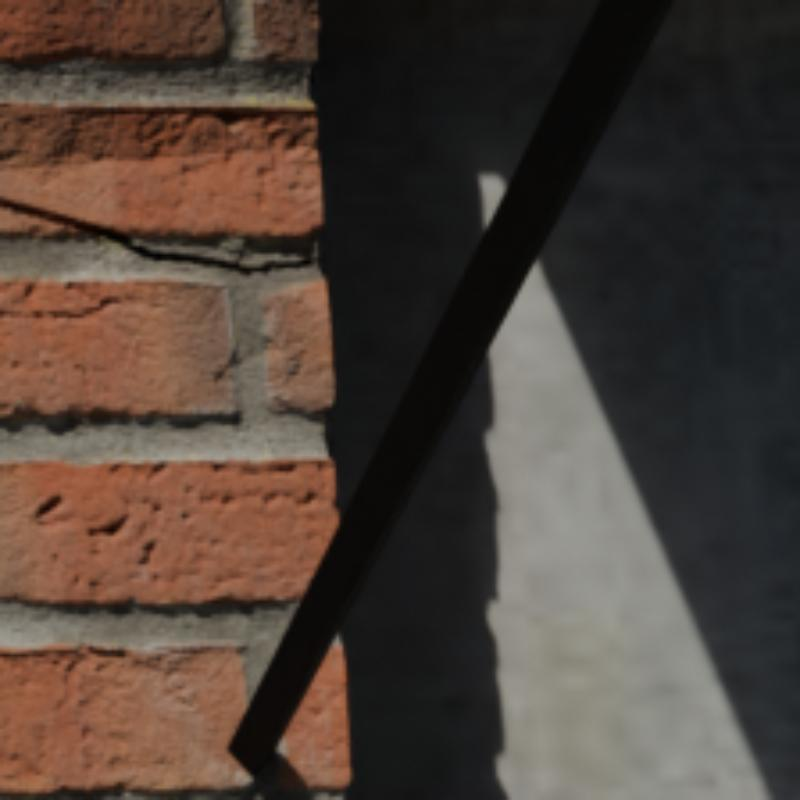pothole: (0, 200, 304, 271)
